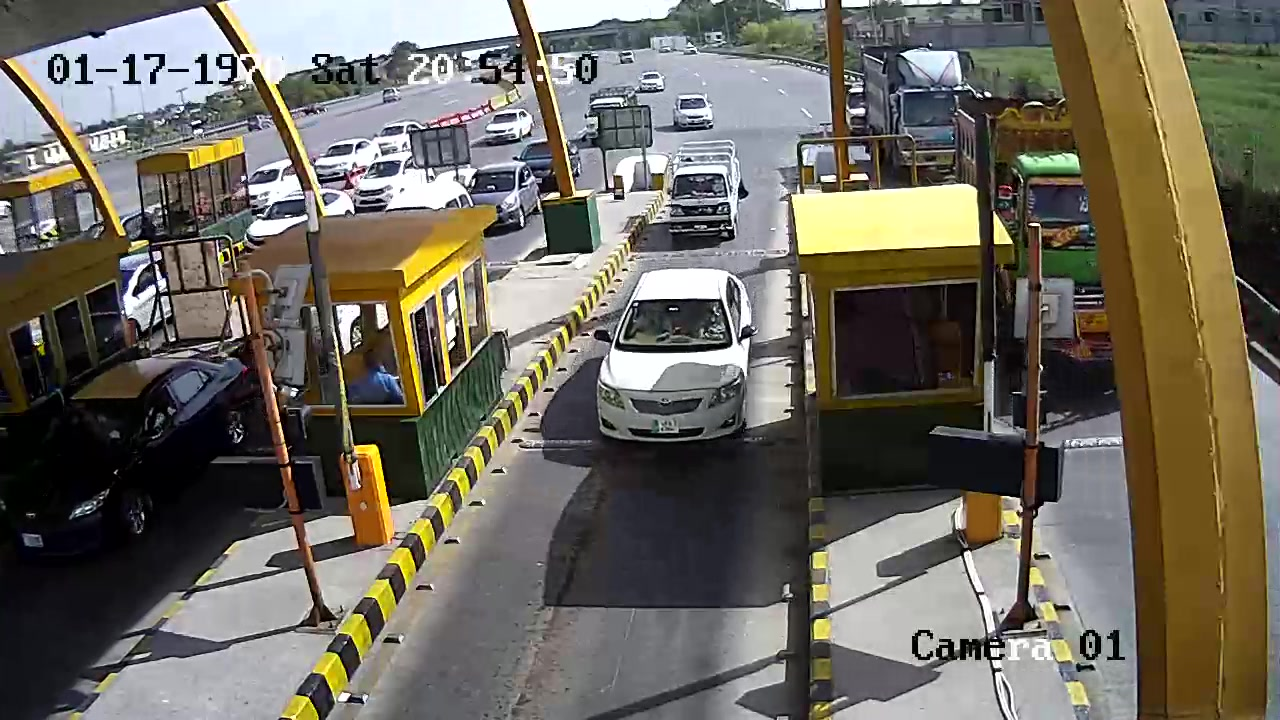F1: (590, 264, 765, 456)
